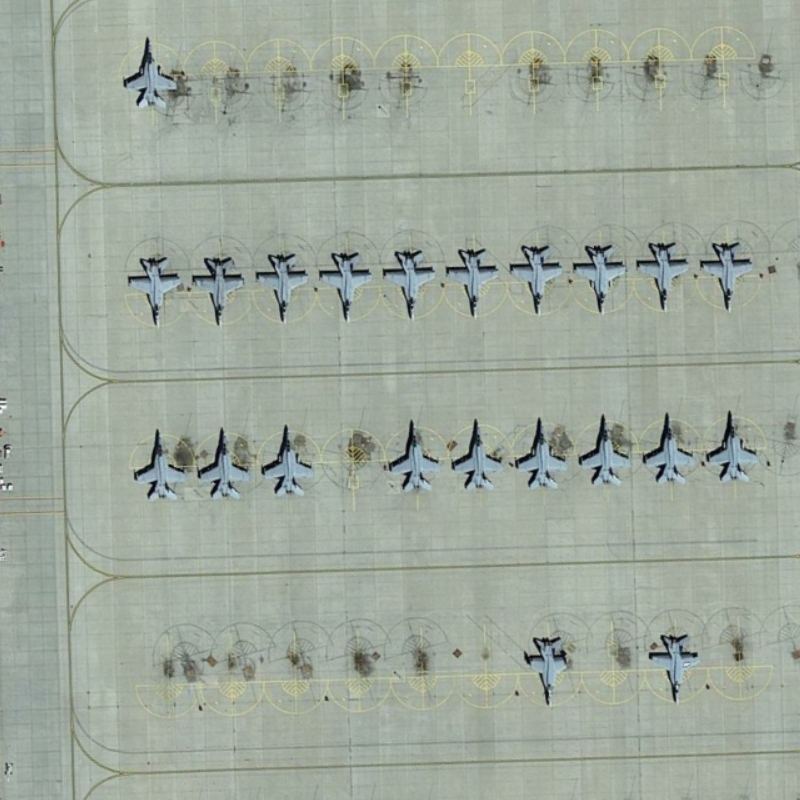A16: (569, 241, 630, 320), (637, 408, 698, 487), (130, 426, 190, 505), (125, 252, 184, 332), (575, 410, 634, 490), (510, 413, 570, 491), (507, 240, 566, 319), (188, 252, 248, 329), (644, 628, 702, 707), (252, 250, 312, 326), (703, 408, 762, 485), (697, 238, 755, 315), (195, 424, 252, 502), (443, 245, 502, 320), (123, 34, 181, 110), (317, 249, 374, 326), (385, 416, 442, 492), (449, 415, 506, 491), (634, 237, 692, 311), (261, 420, 315, 498), (382, 248, 436, 323), (524, 633, 573, 708)
